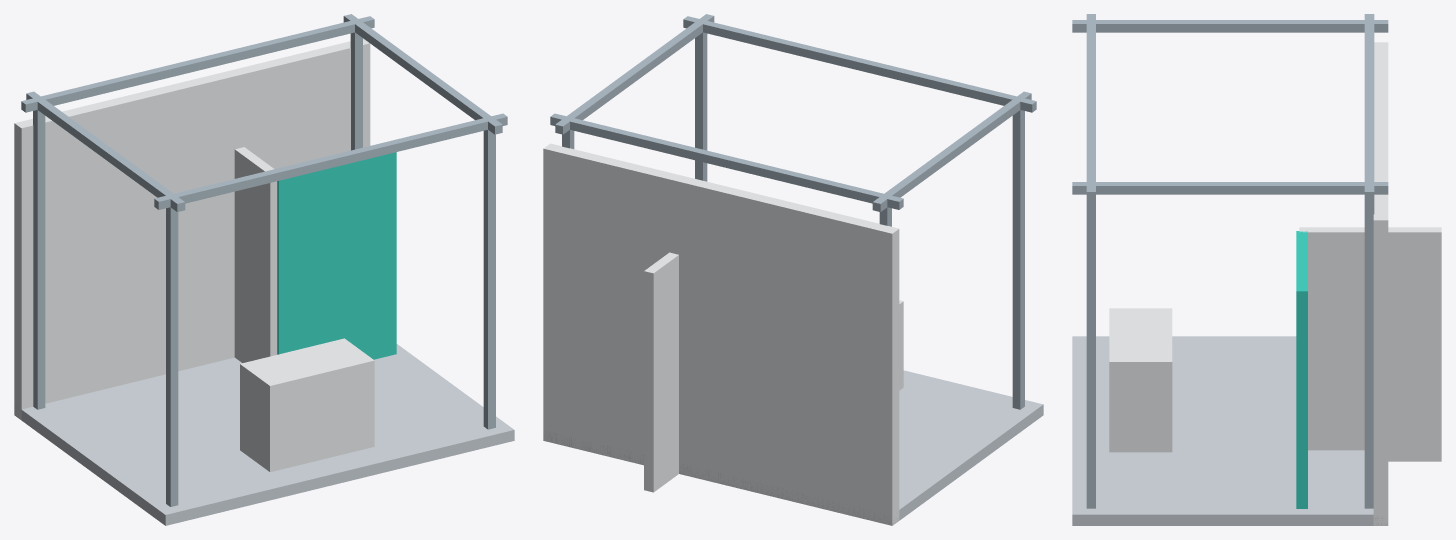
The picture shows the model from 3 angles, left to right: view 1: azimuth 30°, elevation 25°; view 2: azimuth 150°, elevation 25°; view 3: azimuth 270°, elevation 25°; orthographic projection. The views are drawn at different scales.
Visible parts, largest first — view 1: Exhibition Booth Concept; view 2: Exhibition Booth Concept; view 3: Exhibition Booth Concept.
Boxes of the visible parts, bbox=[...] form: Exhibition Booth Concept: bbox=[14, 14, 514, 525]; Exhibition Booth Concept: bbox=[543, 14, 1043, 525]; Exhibition Booth Concept: bbox=[1072, 14, 1441, 525].
Size of the model in its own units: 4 by 3.49 by 3.51.
